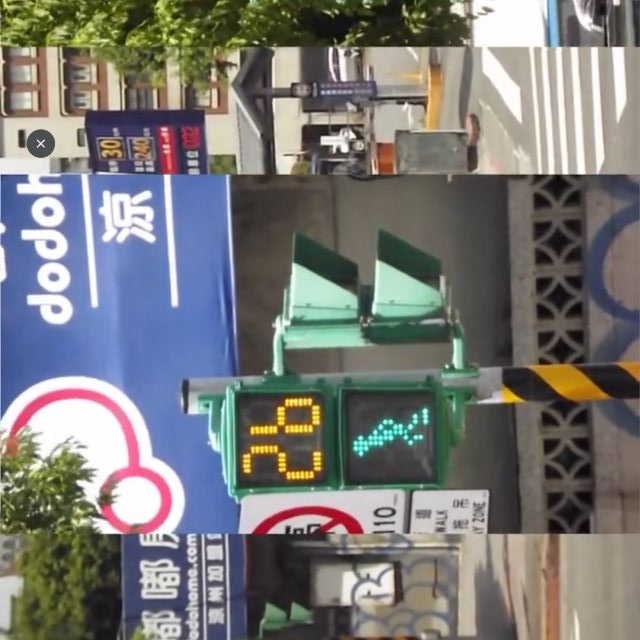green_light: (225, 384, 446, 482)
